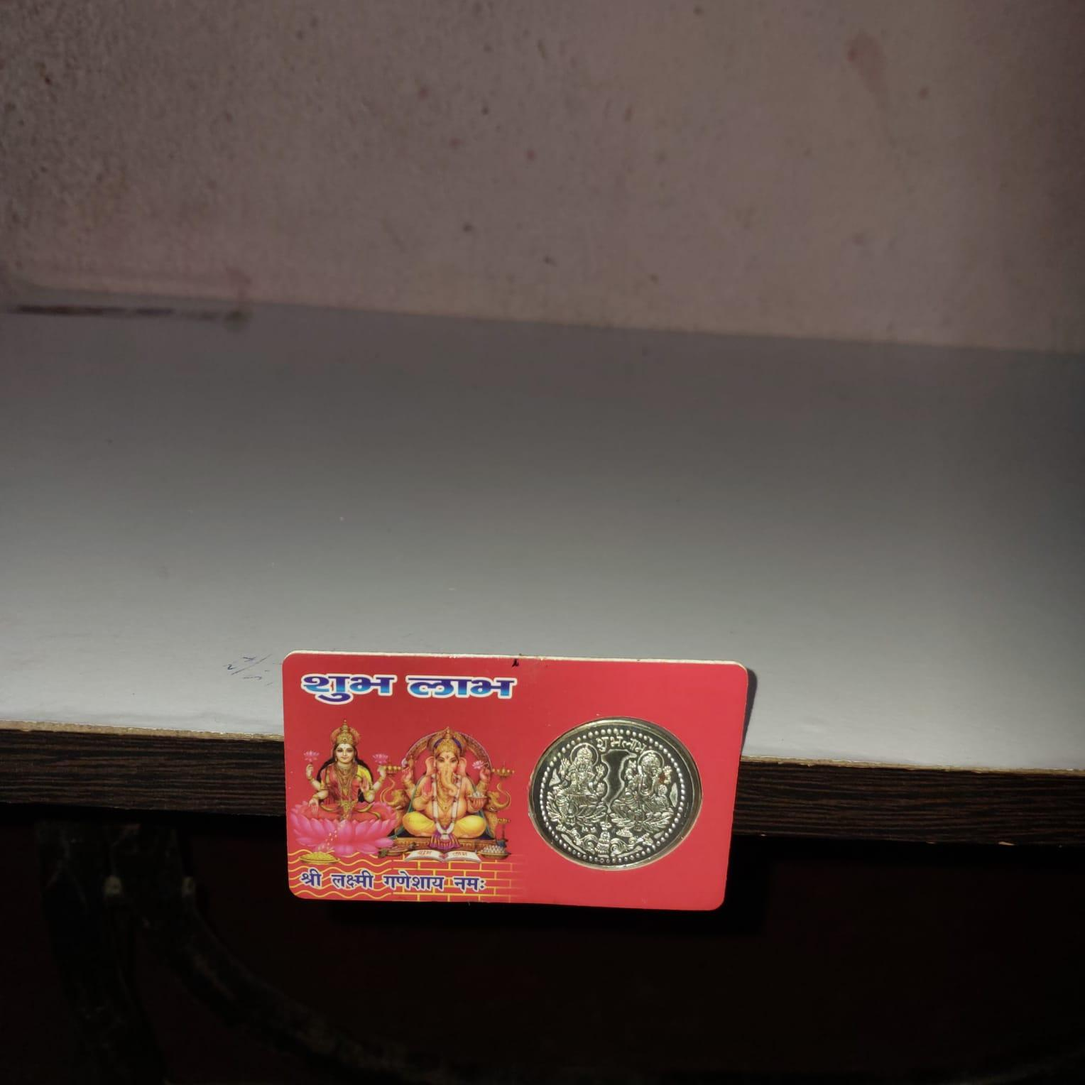blessing_card: (275, 653, 760, 907)
